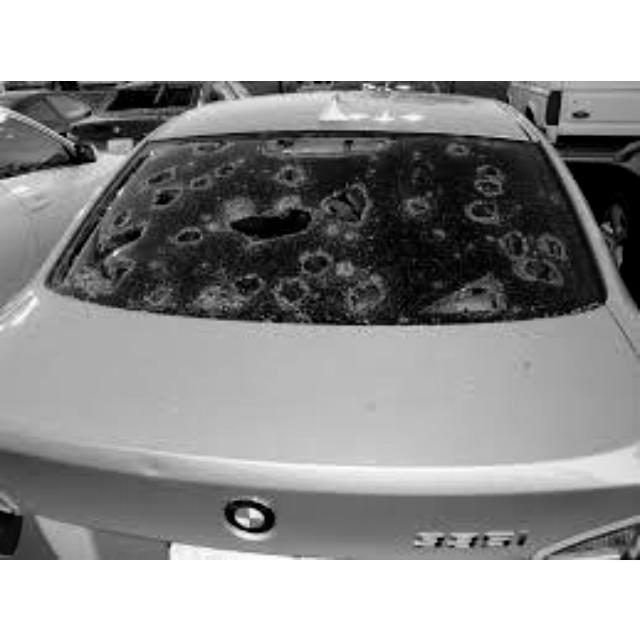Rear-windscreen-Damage: (80, 144, 561, 334)
